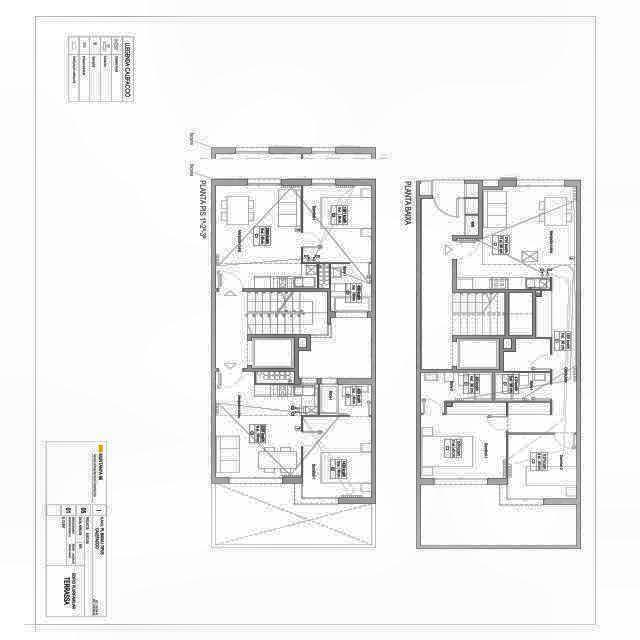room: (457, 186, 577, 433), (421, 199, 505, 369), (216, 371, 318, 477), (216, 185, 317, 288), (421, 484, 577, 546), (216, 292, 327, 368), (421, 402, 506, 478), (303, 417, 372, 498), (303, 185, 372, 262), (508, 434, 577, 499), (298, 318, 372, 378), (421, 372, 493, 413), (331, 264, 372, 311), (494, 372, 550, 401), (320, 385, 372, 415), (503, 339, 550, 371), (509, 293, 532, 335), (420, 183, 478, 197), (256, 371, 294, 384), (503, 339, 511, 349)
